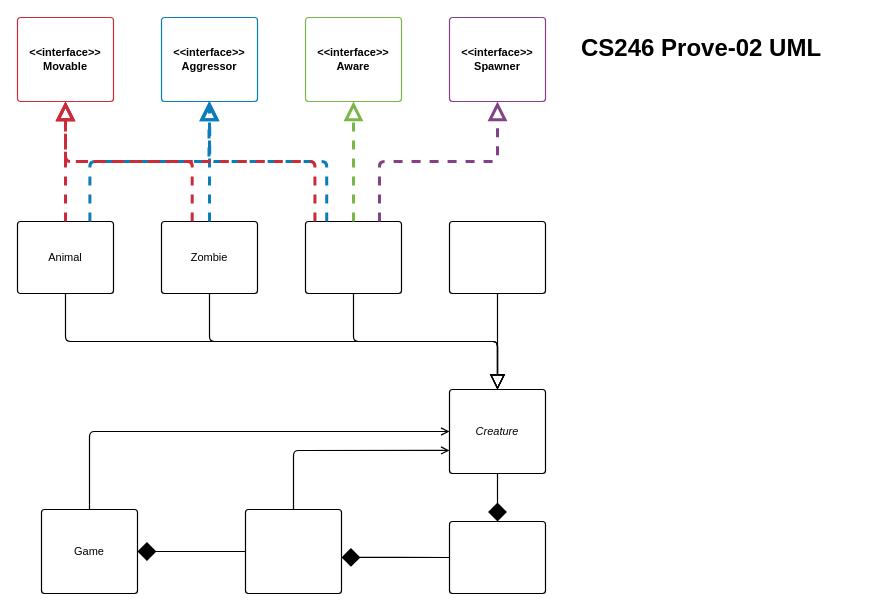
This 887x612 diagram has some shape labels left out. Here are the shapes that lost their labels. From the top down, the centre of each, then its label:
At point (353, 257): "Wolf".
At point (497, 257): "Plant".
At point (293, 551): "World".
At point (497, 557): "CreatureHandler".
